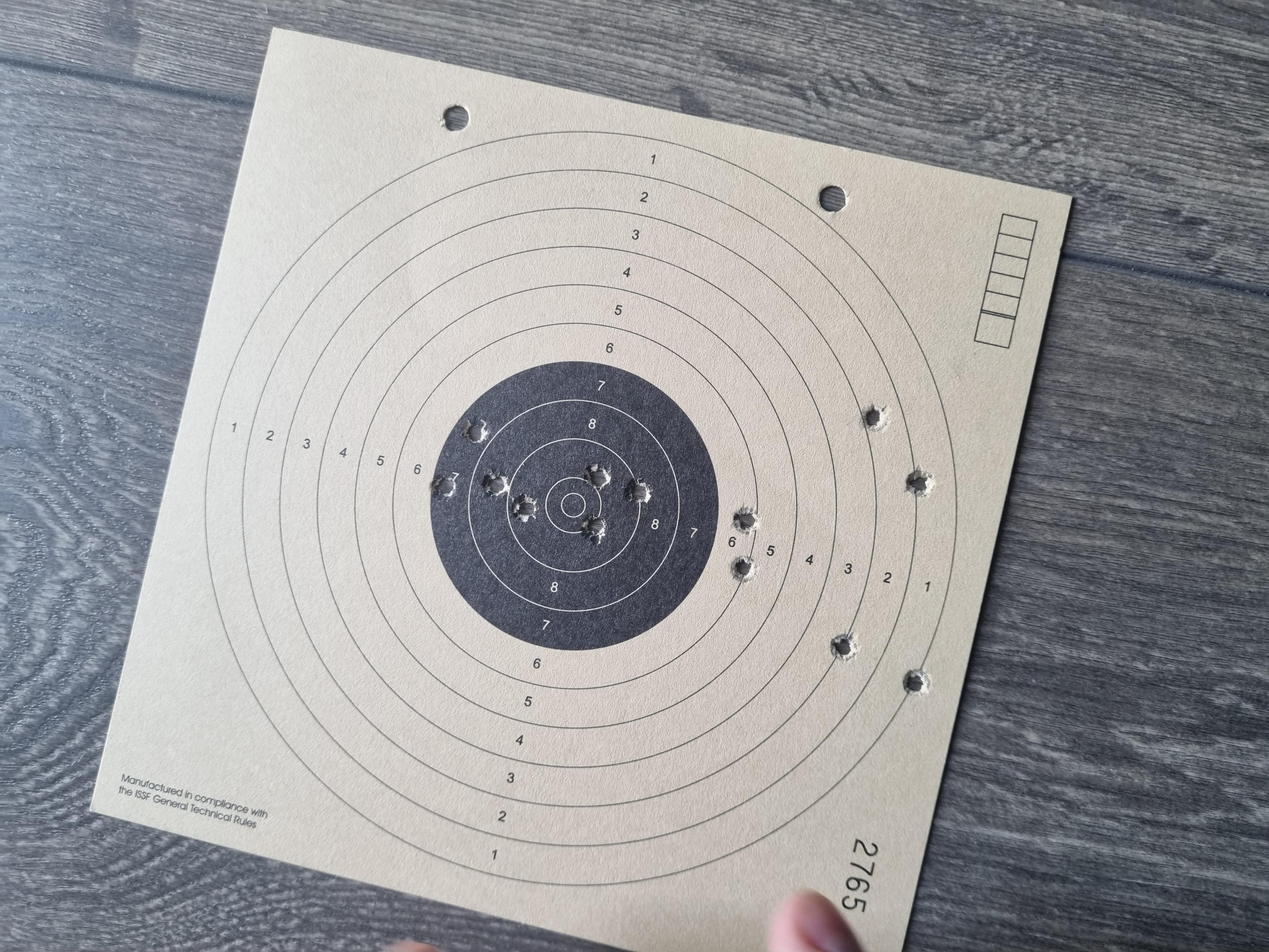hole: (386, 622, 427, 643), (542, 436, 584, 455), (615, 437, 651, 459), (606, 679, 642, 701), (341, 677, 378, 698), (572, 384, 610, 404), (598, 468, 632, 490), (694, 646, 731, 666), (491, 548, 528, 567), (606, 362, 640, 382), (556, 550, 593, 568), (602, 323, 634, 342), (678, 347, 710, 366)
